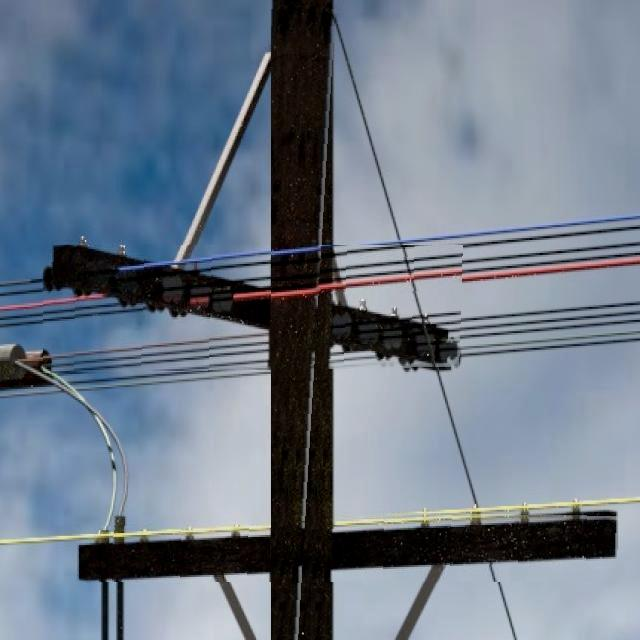crossarm: (43, 245, 460, 369), (80, 514, 617, 582)
pole: (271, 0, 334, 640)
